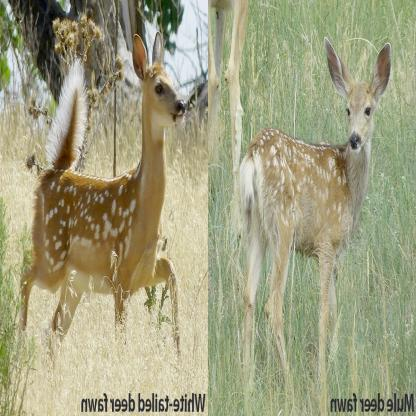Deer: (18, 29, 188, 345), (236, 37, 392, 378)
